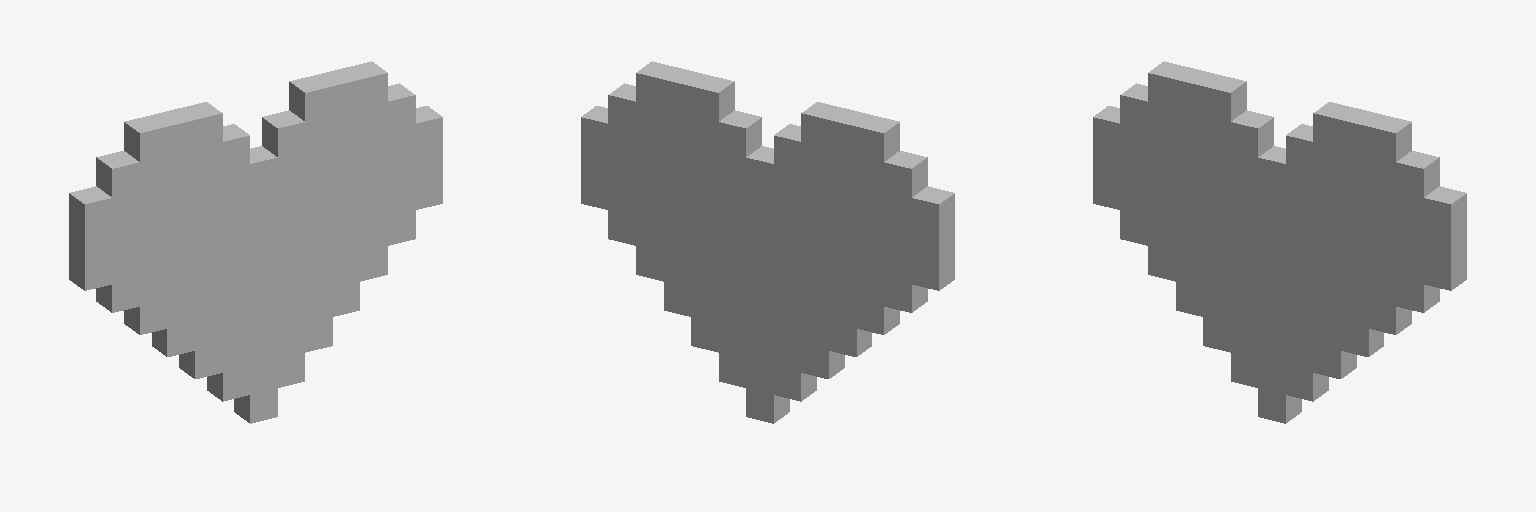
Rendered from Heart.obj.
3 renders of one model, left to right at view 1: azimuth 30°, elevation 25°; view 2: azimuth 150°, elevation 25°; view 3: azimuth 330°, elevation 25°, orthographic.
Visible parts, largest first — view 1: object 1; view 2: object 1; view 3: object 1.
Part boxes in pixels (bbox=[...]): object 1: bbox=[69, 61, 442, 423]; object 1: bbox=[581, 61, 954, 423]; object 1: bbox=[1093, 61, 1466, 423].
Size of the model in its own units: 1.3 by 1.1 by 0.1.